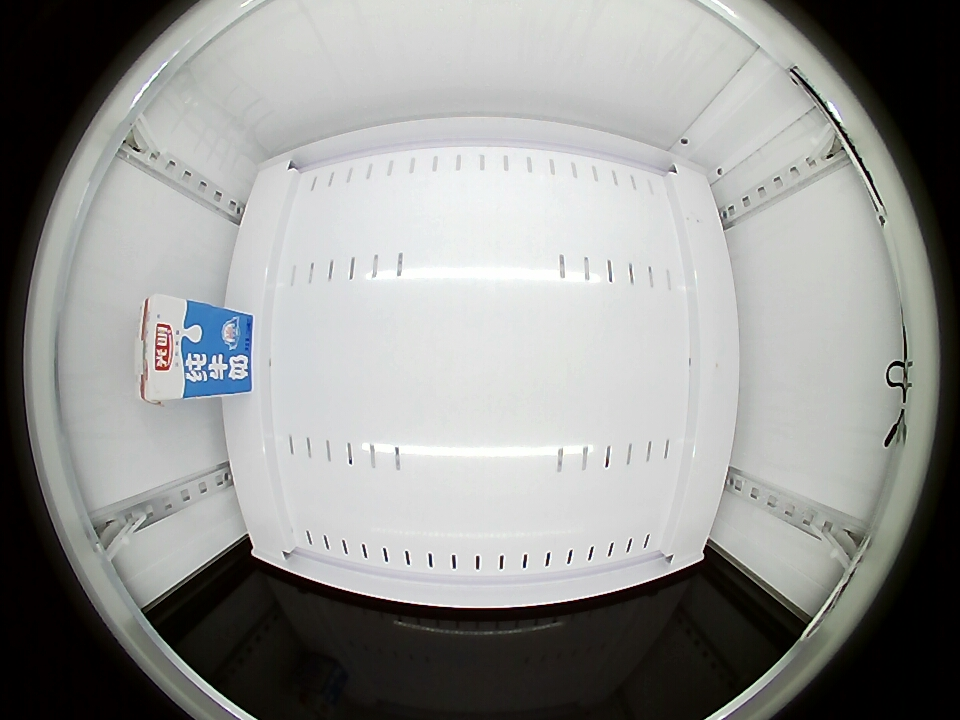niunai: (138, 294, 210, 404)
